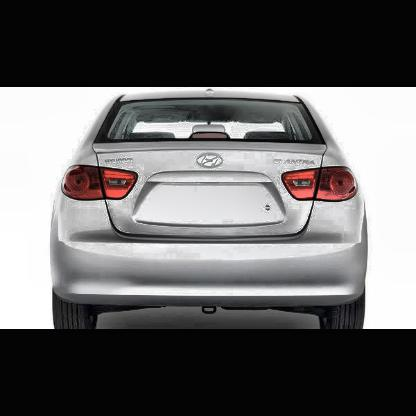Hyundai Elantra Sedan 2007: (53, 89, 369, 329)
